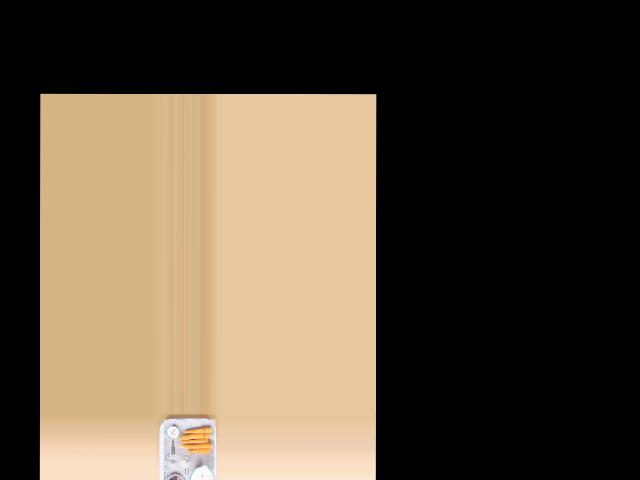carrot: (182, 427, 212, 435)
